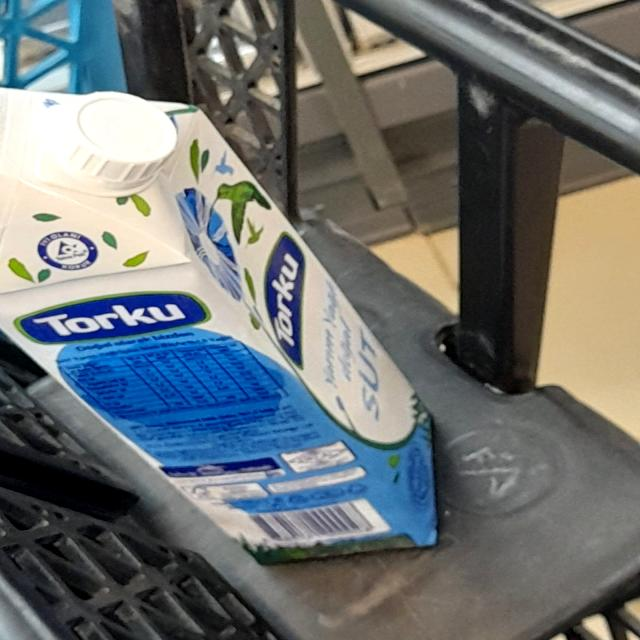milk: (4, 85, 444, 566)
